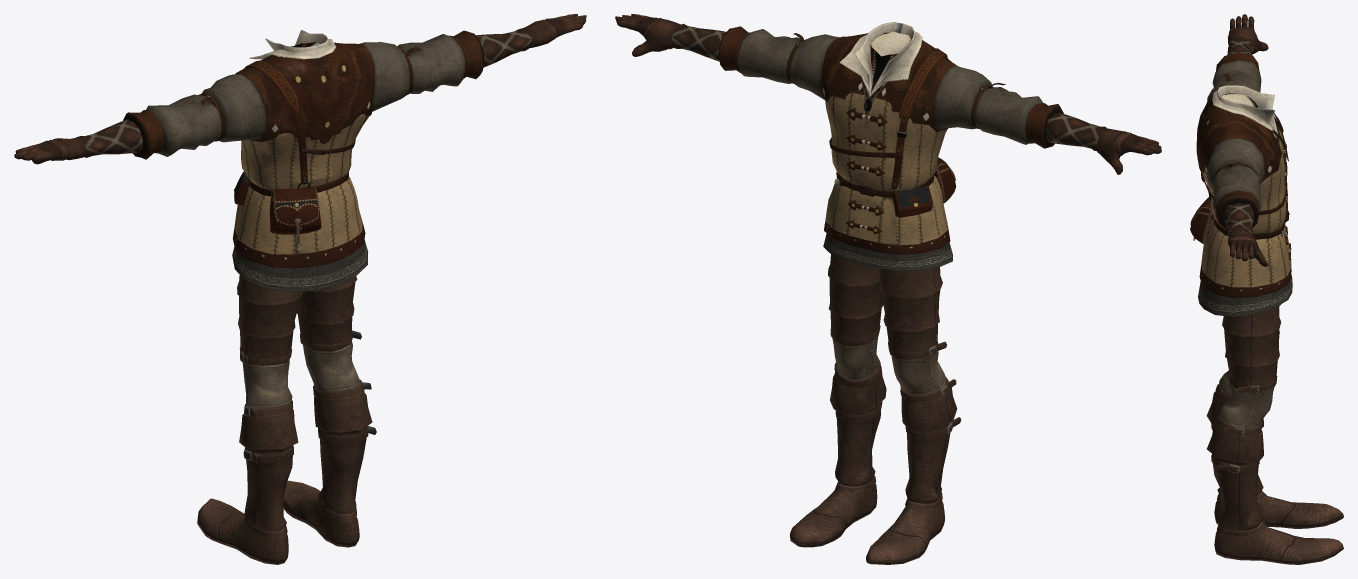
The model's file is halfling_clothing.fbx.
The picture shows the model from 3 angles, left to right: view 1: azimuth 30°, elevation 25°; view 2: azimuth 150°, elevation 25°; view 3: azimuth 270°, elevation 25°; orthographic projection. The views are drawn at different scales.
Parts seen in each view (by area): view 1: hmm24:mesh2, hmm24:mesh5, hmm24:mesh21, hmm24:mesh4, hmm24:mesh02, hmm24:mesh12, hmm24:mesh0, hmm24:mesh6; view 2: hmm24:mesh2, hmm24:mesh5, hmm24:mesh21, hmm24:mesh12, hmm24:mesh4, hmm24:mesh02, hmm24:mesh0, hmm24:mesh6, hmm24:mesh7, hmm24:mesh8; view 3: hmm24:mesh2, hmm24:mesh5, hmm24:mesh4, hmm24:mesh21, hmm24:mesh02, hmm24:mesh12, hmm24:mesh0, hmm24:mesh6, hmm24:mesh7, hmm24:mesh8.
Boxes of the visible parts, box(x1,y1,x2,y2) form: hmm24:mesh2: box(197, 275, 376, 564); hmm24:mesh5: box(205, 42, 401, 268); hmm24:mesh21: box(146, 34, 465, 156); hmm24:mesh4: box(232, 177, 368, 291); hmm24:mesh02: box(14, 14, 586, 164); hmm24:mesh12: box(208, 43, 402, 246); hmm24:mesh0: box(242, 341, 360, 408); hmm24:mesh6: box(123, 30, 484, 196); hmm24:mesh2: box(790, 254, 961, 564); hmm24:mesh5: box(796, 33, 984, 254); hmm24:mesh21: box(737, 29, 1043, 144); hmm24:mesh12: box(825, 31, 947, 191); hmm24:mesh4: box(823, 175, 952, 270); hmm24:mesh02: box(615, 14, 1161, 174); hmm24:mesh0: box(832, 337, 945, 395); hmm24:mesh6: box(718, 26, 1063, 197); hmm24:mesh7: box(854, 22, 915, 95); hmm24:mesh8: box(839, 31, 922, 95); hmm24:mesh2: box(1206, 304, 1343, 564); hmm24:mesh5: box(1190, 96, 1291, 298); hmm24:mesh4: box(1198, 216, 1292, 316); hmm24:mesh21: box(1206, 60, 1283, 236); hmm24:mesh02: box(1223, 14, 1268, 266); hmm24:mesh12: box(1193, 94, 1288, 240); hmm24:mesh0: box(1219, 370, 1274, 428); hmm24:mesh6: box(1213, 52, 1284, 239); hmm24:mesh7: box(1217, 85, 1276, 131); hmm24:mesh8: box(1212, 90, 1278, 134).
Bounding box in the file's own units: 3.69 × 3.14 × 0.982.
